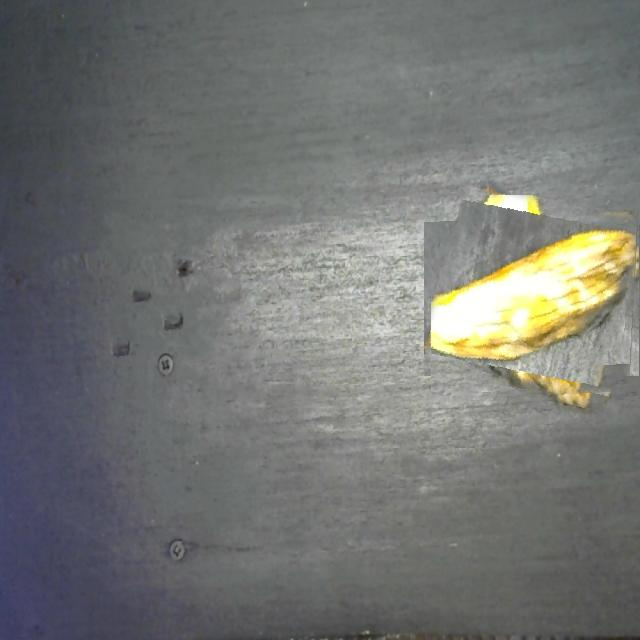biodegradable: (431, 195, 640, 403)
